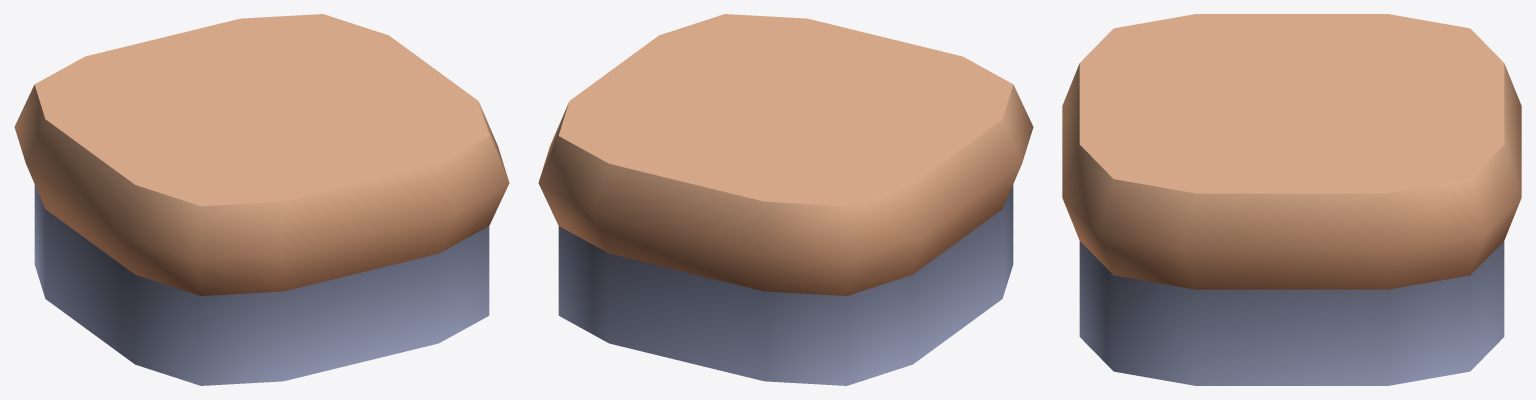
File: block-grass-low.glb
The picture shows the model from 3 angles, left to right: view 1: azimuth 30°, elevation 25°; view 2: azimuth 150°, elevation 25°; view 3: azimuth 270°, elevation 25°; orthographic projection. The views are drawn at different scales.
Visible parts, largest first — view 1: block-grass-low; view 2: block-grass-low; view 3: block-grass-low.
Part boxes in pixels (bbox=[...]): block-grass-low: bbox=[14, 14, 509, 385]; block-grass-low: bbox=[538, 14, 1033, 385]; block-grass-low: bbox=[1062, 14, 1521, 385].
Bounding box in the file's own units: 1.08 × 0.5 × 1.08.
